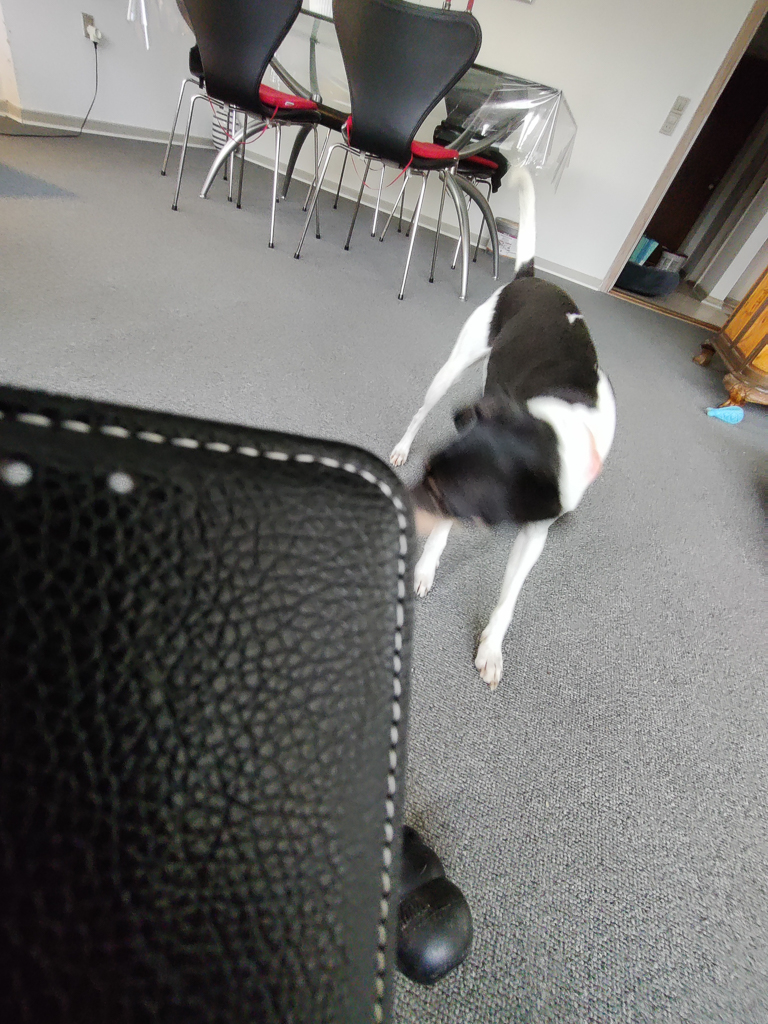Dog: (350, 149, 644, 721)
